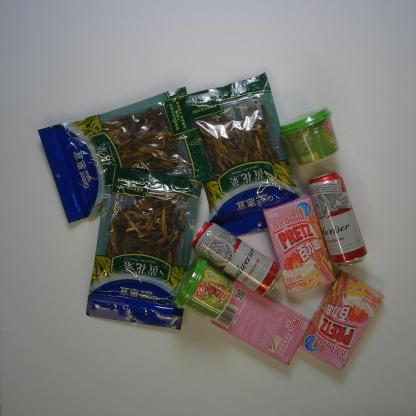Alcohol: (189, 220, 282, 297), (308, 170, 367, 268)
Dessert: (298, 270, 386, 372), (211, 280, 311, 366), (262, 193, 338, 296)
Dried Food: (37, 85, 217, 224), (187, 71, 304, 239), (85, 164, 202, 332)
Instant Drink: (172, 257, 234, 322), (280, 106, 340, 166)
